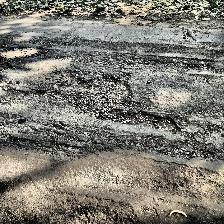pothole: (30, 69, 182, 134), (0, 61, 14, 73)
